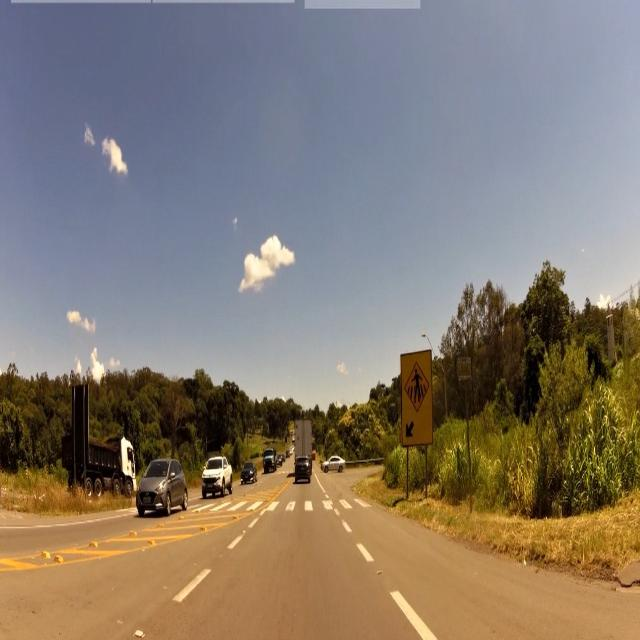A-32b: (404, 362, 430, 411)
